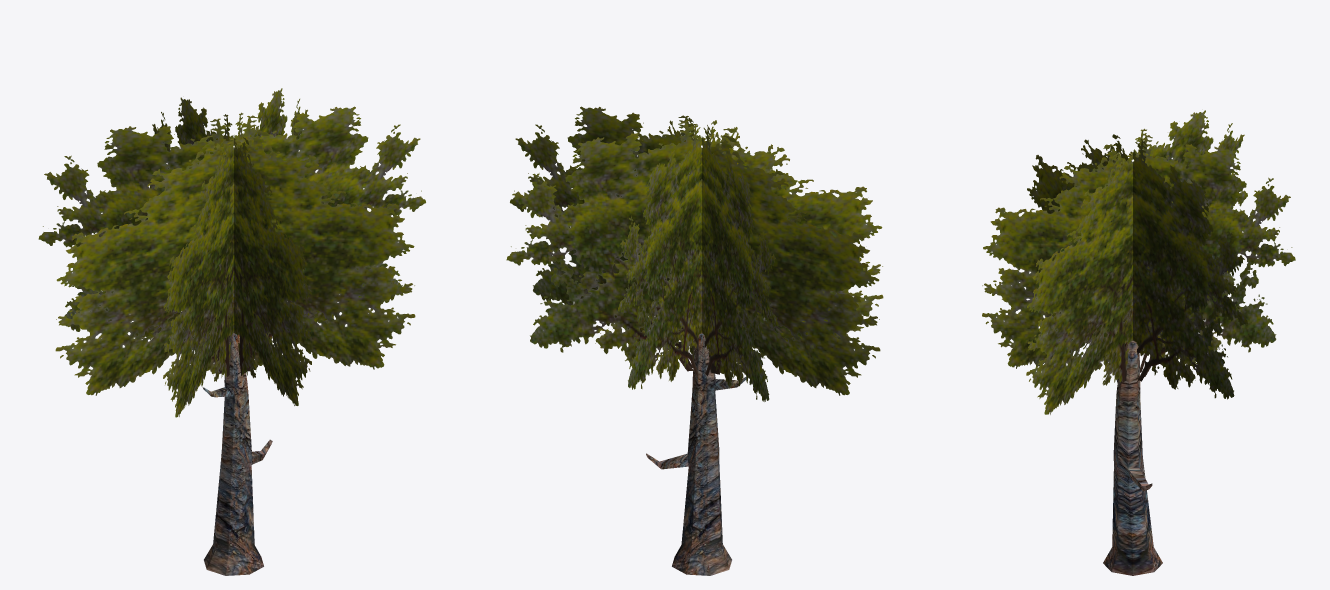
Rendered from Tree3.fbx.
3 renders of one model, left to right at view 1: azimuth 30°, elevation 25°; view 2: azimuth 150°, elevation 25°; view 3: azimuth 270°, elevation 25°, orthographic. The views are drawn at different scales.
Visible parts, largest first — view 1: Tree; view 2: Tree; view 3: Tree.
Boxes of the visible parts, bbox=[...] form: Tree: bbox=[38, 88, 425, 575]; Tree: bbox=[506, 106, 883, 575]; Tree: bbox=[982, 110, 1295, 575].
Bounding box in the file's own units: 10.6 × 8.05 × 10.86.
2 materials, 2 textured.
